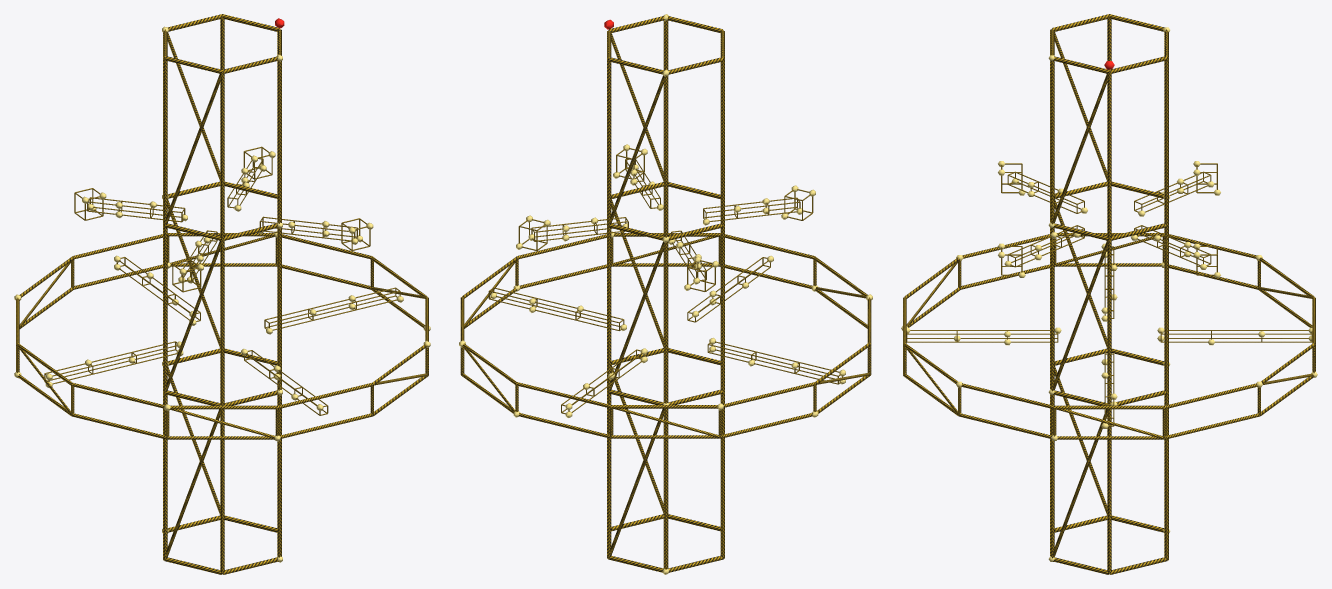
Rendered from guard_station_build1.obj.
3 renders of one model, left to right at view 1: azimuth 30°, elevation 25°; view 2: azimuth 150°, elevation 25°; view 3: azimuth 270°, elevation 25°, orthographic.
Visible parts, largest first — view 1: girder, post, brace, work_light; view 2: post, girder, brace, work_light; view 3: girder, post, brace, work_light.
Boxes of the visible parts, x1,y1,x2,y2 form: girder: [16, 14, 428, 574]; post: [16, 17, 428, 573]; brace: [18, 32, 427, 558]; work_light: [14, 26, 430, 562]; post: [460, 20, 871, 569]; girder: [460, 15, 871, 572]; brace: [463, 33, 869, 557]; work_light: [459, 14, 872, 574]; girder: [903, 14, 1315, 574]; post: [903, 17, 1315, 573]; brace: [905, 32, 1313, 557]; work_light: [901, 27, 1317, 561].
Size of the model in its own units: 225 by 308 by 226.
Materials: 3 (1 with a texture image).
